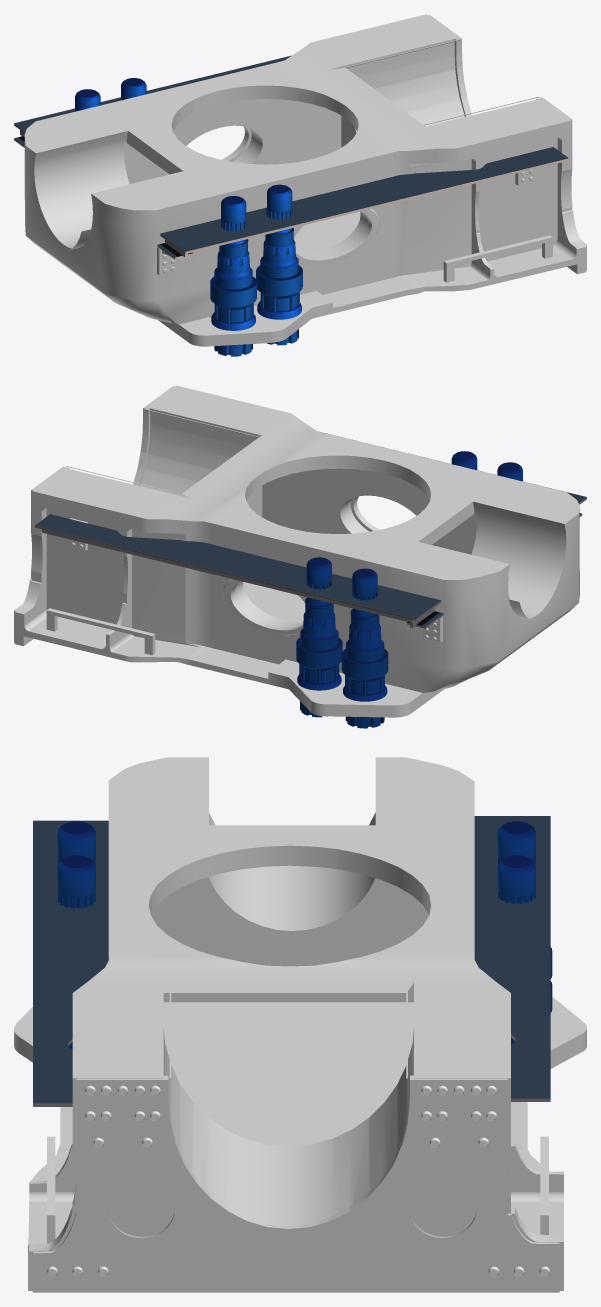
Rendered from dizuo_1.glb.
3 views of the same model, one above another, from view 1: azimuth 30°, elevation 25°; view 2: azimuth 150°, elevation 25°; view 3: azimuth 270°, elevation 25° (orthographic). The views are drawn at different scales.
Visible parts, largest first — view 1: 底盘1; view 2: 底盘1; view 3: 底盘1.
Boxes of the visible parts, x1=… form: 底盘1: x1=14, y1=14, x2=586, y2=356; 底盘1: x1=14, y1=385, x2=586, y2=728; 底盘1: x1=14, y1=757, x2=586, y2=1292.
Bounding box in the file's own units: 17.38 × 5.47 × 12.69.
Materials: 7 (3 with a texture image).
